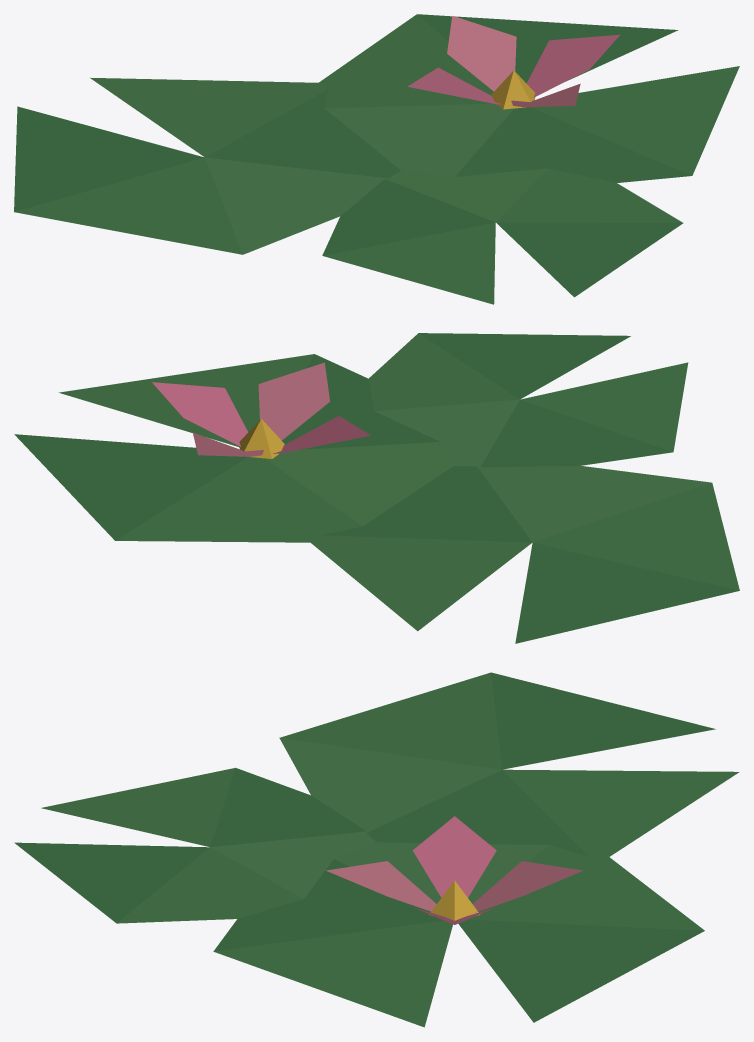
File: lilypad_pink_cluster_lod1.glb
3 renders of one model, top to bottom at view 1: azimuth 30°, elevation 25°; view 2: azimuth 150°, elevation 25°; view 3: azimuth 270°, elevation 25°, orthographic. The views are drawn at different scales.
Visible parts, largest first — view 1: lilypad_pink_cluster_lod1; view 2: lilypad_pink_cluster_lod1; view 3: lilypad_pink_cluster_lod1.
Part boxes in pixels (x1,y1,x2,y2): lilypad_pink_cluster_lod1: [14, 14, 739, 304]; lilypad_pink_cluster_lod1: [14, 333, 739, 643]; lilypad_pink_cluster_lod1: [14, 672, 739, 1027].
Bounding box in the file's own units: 1.24 × 0.08 × 1.07.
